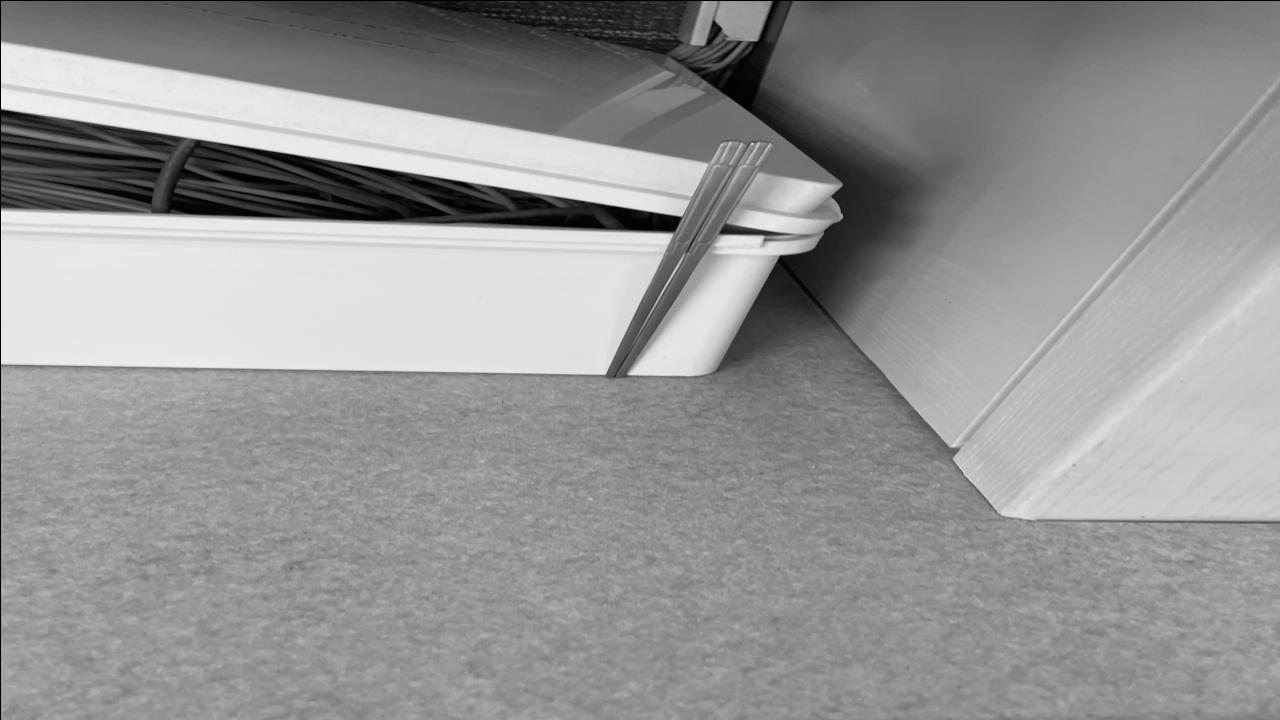chopstick: (600, 138, 782, 378)
